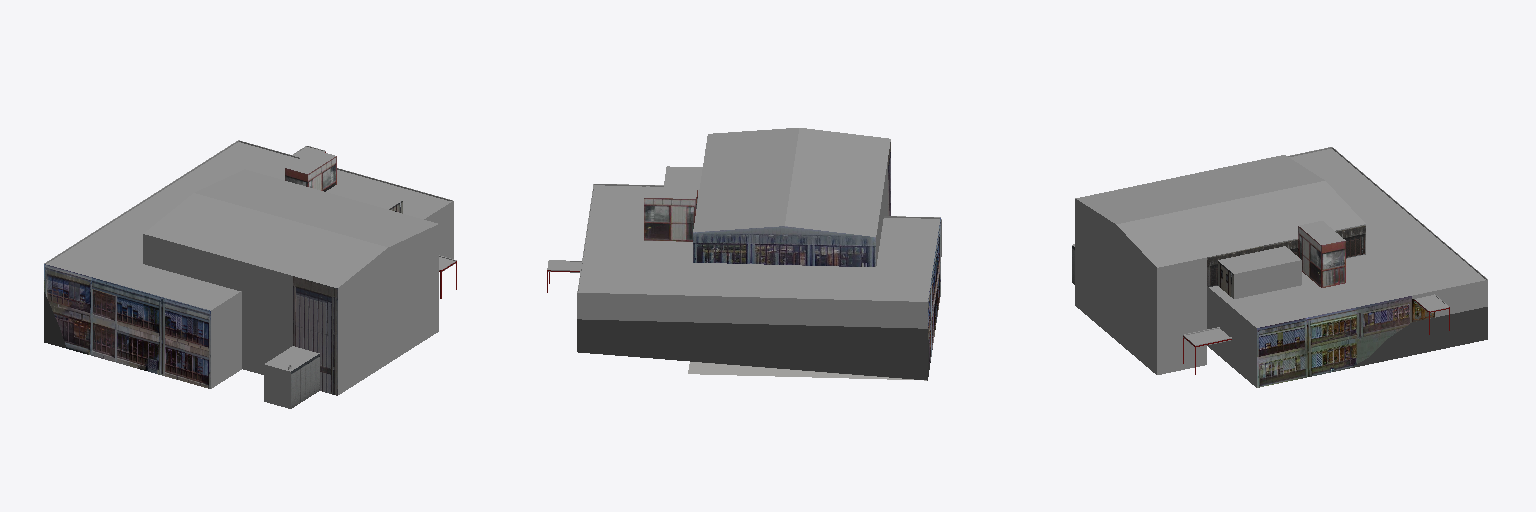
3 renders of one model, left to right at view 1: azimuth 30°, elevation 25°; view 2: azimuth 150°, elevation 25°; view 3: azimuth 270°, elevation 25°, orthographic.
Visible parts, largest first — view 1: SketchUp.035_ID413, SketchUp.019_ID236, SketchUp.021_ID255, SketchUp.017_ID205, SketchUp.050_ID574, SketchUp.040_ID466, SketchUp.048_ID553, SketchUp.007_ID105, SketchUp.024_ID275, SketchUp.011_ID148, SketchUp.014_ID175, SketchUp.043_ID498 (+5 smaller); view 2: SketchUp.021_ID255, SketchUp.035_ID413, SketchUp.044_ID511, SketchUp.045_ID519, SketchUp.010_ID130, SketchUp.031_ID366, SketchUp.009_ID124, SketchUp.019_ID236, SketchUp.028_ID327, SketchUp.034_ID405; view 3: SketchUp.035_ID413, SketchUp.021_ID255, SketchUp.017_ID205, SketchUp.025_ID288, SketchUp.042_ID485, SketchUp.044_ID511, SketchUp.043_ID498, SketchUp.027_ID314, SketchUp.037_ID434, SketchUp.028_ID327, SketchUp.031_ID366, SketchUp.014_ID175 (+3 smaller).
Part boxes in pixels (x1,y1,x2,y2): SketchUp.035_ID413: (144,169,437,287); SketchUp.019_ID236: (44,264,210,388); SketchUp.021_ID255: (47,142,451,309); SketchUp.017_ID205: (338,224,438,394); SketchUp.050_ID574: (242,262,292,374); SketchUp.040_ID466: (293,276,337,395); SketchUp.048_ID553: (143,234,241,290); SketchUp.007_ID105: (211,291,241,388); SketchUp.024_ID275: (291,354,319,408); SketchUp.011_ID148: (264,364,290,408); SketchUp.014_ID175: (285,156,336,191); SketchUp.043_ID498: (424,201,453,258); SketchUp.021_ID255: (578,185,939,301); SketchUp.035_ID413: (693,128,890,236); SketchUp.044_ID511: (577,319,929,380); SketchUp.045_ID519: (577,293,927,328); SketchUp.010_ID130: (693,226,875,266); SketchUp.031_ID366: (644,198,695,241); SketchUp.009_ID124: (688,362,926,380); SketchUp.019_ID236: (928,218,940,363); SketchUp.028_ID327: (664,166,702,195); SketchUp.034_ID405: (644,186,697,198); SketchUp.035_ID413: (1075,155,1365,267); SketchUp.021_ID255: (1210,149,1485,327); SketchUp.017_ID205: (1075,199,1156,374); SketchUp.025_ID288: (1257,296,1411,387); SketchUp.042_ID485: (1157,258,1206,374); SketchUp.044_ID511: (1351,307,1487,367); SketchUp.043_ID498: (1207,286,1256,387); SketchUp.027_ID314: (1234,260,1301,298); SketchUp.037_ID434: (1435,280,1487,317); SketchUp.028_ID327: (1218,246,1300,273); SketchUp.031_ID366: (1322,241,1345,287); SketchUp.014_ID175: (1298,226,1321,287).
Bounding box in the file's own units: 58.13 × 17.94 × 56.38.
Materials: 38 (15 with a texture image).